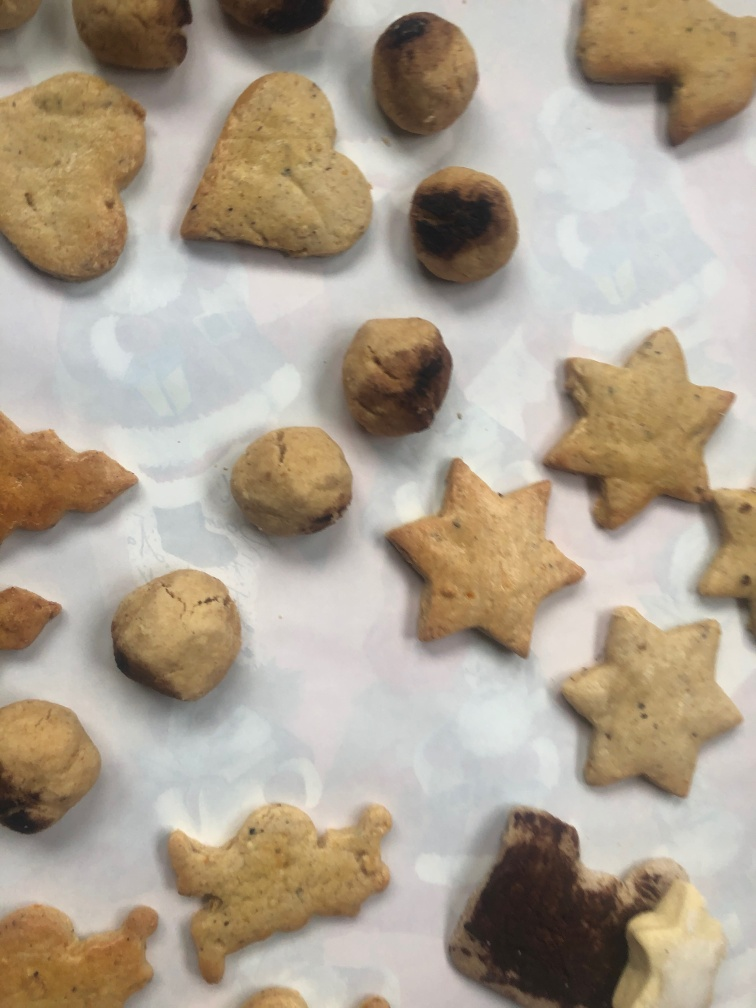angel: (569, 4, 756, 150)
christmas tree: (2, 407, 141, 554)
heart: (181, 66, 379, 261), (1, 68, 147, 290)
santa claus: (153, 783, 405, 989), (3, 890, 159, 1007)
snowball: (105, 565, 242, 703), (336, 307, 454, 443), (402, 158, 518, 296), (225, 424, 354, 547), (369, 7, 479, 149), (3, 696, 103, 838)
star: (379, 454, 591, 662), (543, 323, 737, 529), (552, 601, 744, 806), (620, 873, 731, 1008), (699, 454, 756, 654)
weird #1: (438, 796, 666, 1007)
